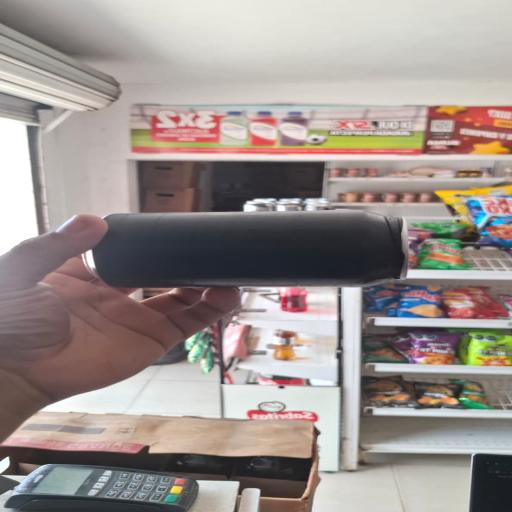LATA: (88, 208, 419, 294)
